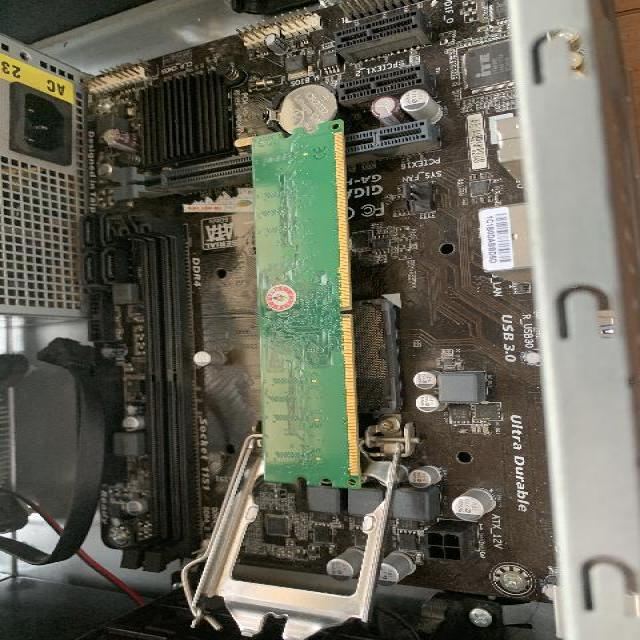Mainboard: (78, 0, 573, 637)
PSU: (0, 31, 92, 323)
RAM: (242, 118, 371, 486)
